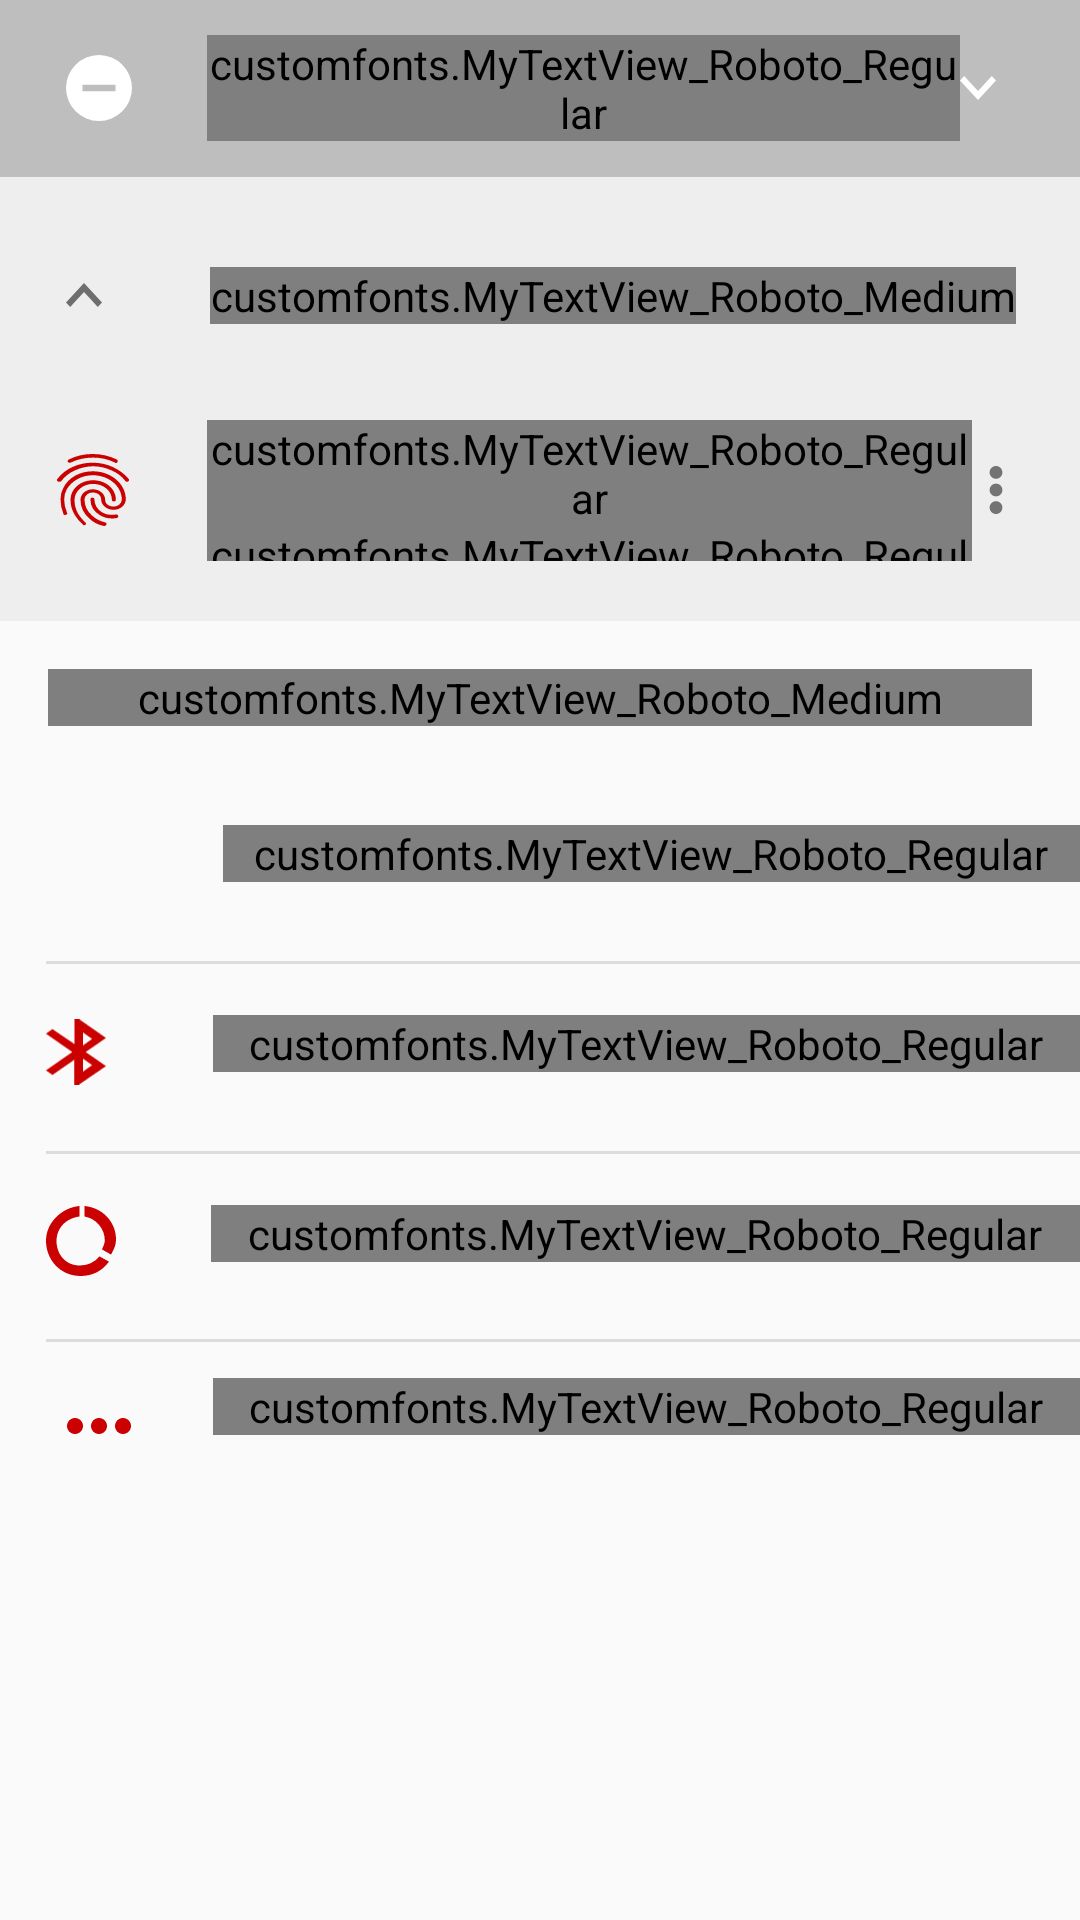

Point at icon controls on the screen. Image size 1080 × 1920, points as [x,y].
datausage: [81,1241]
fingerprint: [93,490]
minus: [99,88]
more: [996,490]
more horiz: [99,1426]
uparrow: [84,295]
